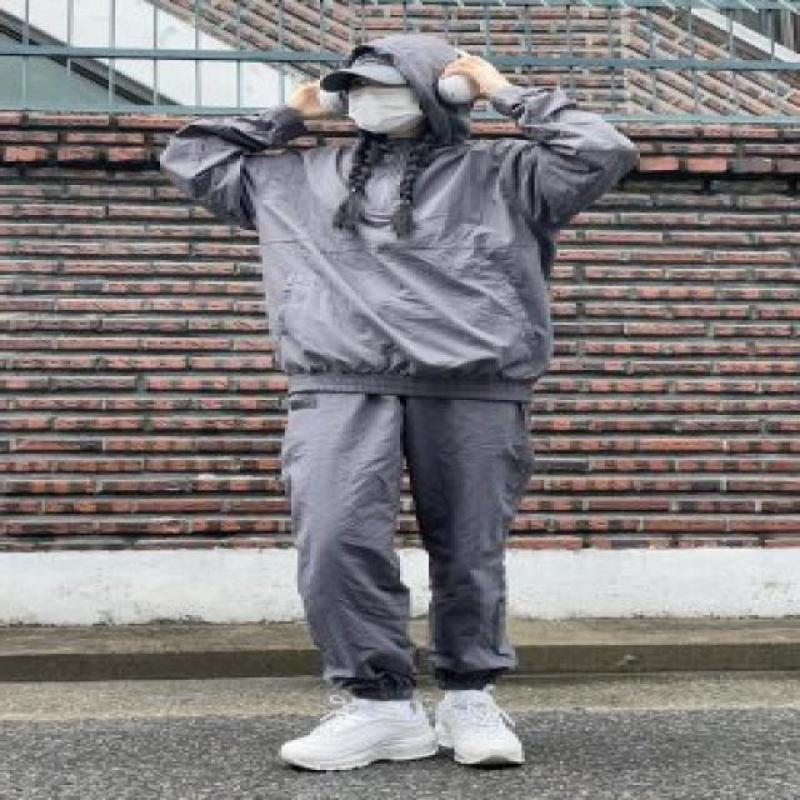coat: (158, 31, 643, 403)
trousers: (279, 391, 535, 703)
